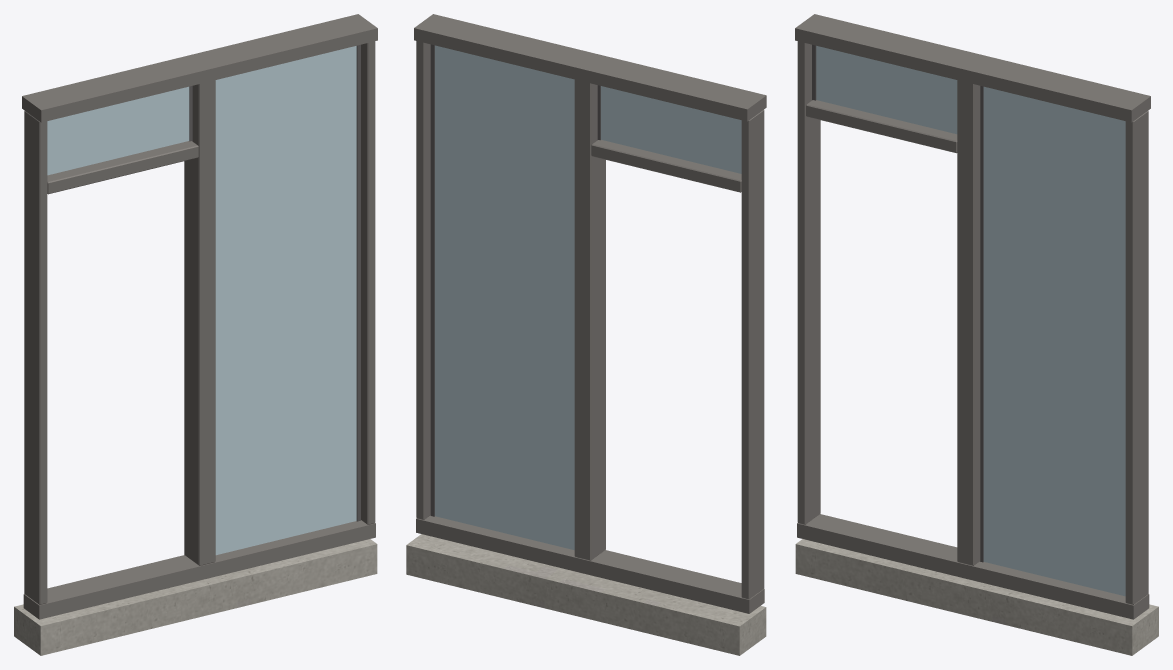
File: wall_glass_door.glb
The picture shows the model from 3 angles, left to right: view 1: azimuth 30°, elevation 25°; view 2: azimuth 150°, elevation 25°; view 3: azimuth 330°, elevation 25°; orthographic projection.
Parts seen in each view (by area): view 1: wall_glass_door_glass, wall_glass_door_metal, wall_glass_door_concrete, wall_glass_door_dark; view 2: wall_glass_door_glass, wall_glass_door_metal, wall_glass_door_concrete, wall_glass_door_dark; view 3: wall_glass_door_glass, wall_glass_door_metal, wall_glass_door_concrete, wall_glass_door_dark.
Part boxes in pixels (x1,y1,x2,y2): wall_glass_door_glass: [47, 46, 356, 555]; wall_glass_door_metal: [22, 14, 377, 619]; wall_glass_door_concrete: [14, 539, 377, 655]; wall_glass_door_dark: [189, 44, 360, 521]; wall_glass_door_glass: [435, 45, 741, 550]; wall_glass_door_metal: [414, 14, 766, 613]; wall_glass_door_concrete: [406, 534, 766, 655]; wall_glass_door_dark: [430, 44, 600, 516]; wall_glass_door_glass: [816, 46, 1125, 596]; wall_glass_door_metal: [795, 14, 1150, 619]; wall_glass_door_concrete: [795, 539, 1158, 655]; wall_glass_door_dark: [812, 44, 983, 562].
Bounding box in the file's own units: 2 × 3.1 × 0.28.
4 materials, 1 textured.
